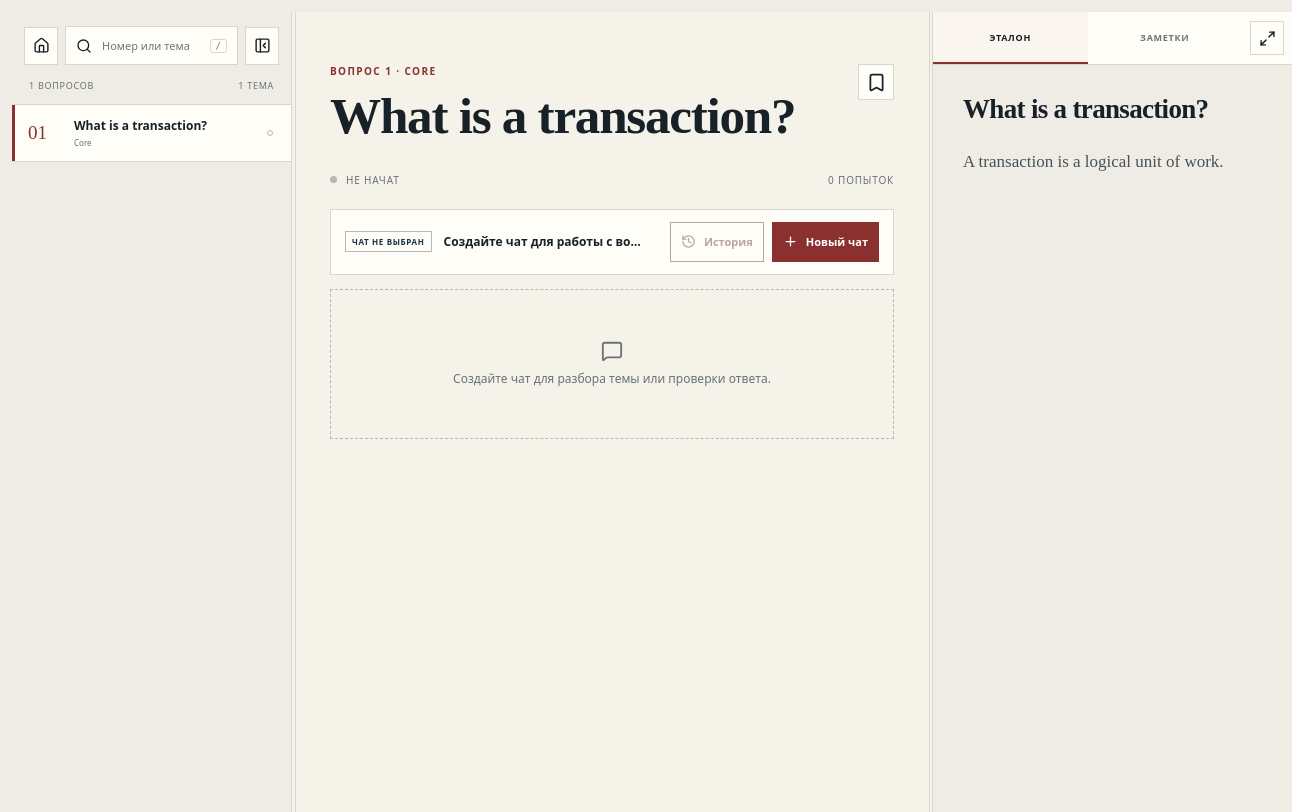
Scenario: Workspace › creates a tutor chat and quick prompts only fill the editor
Click the button "Новый чат": [825, 242] box top-left (772, 222), bottom-right (879, 262)
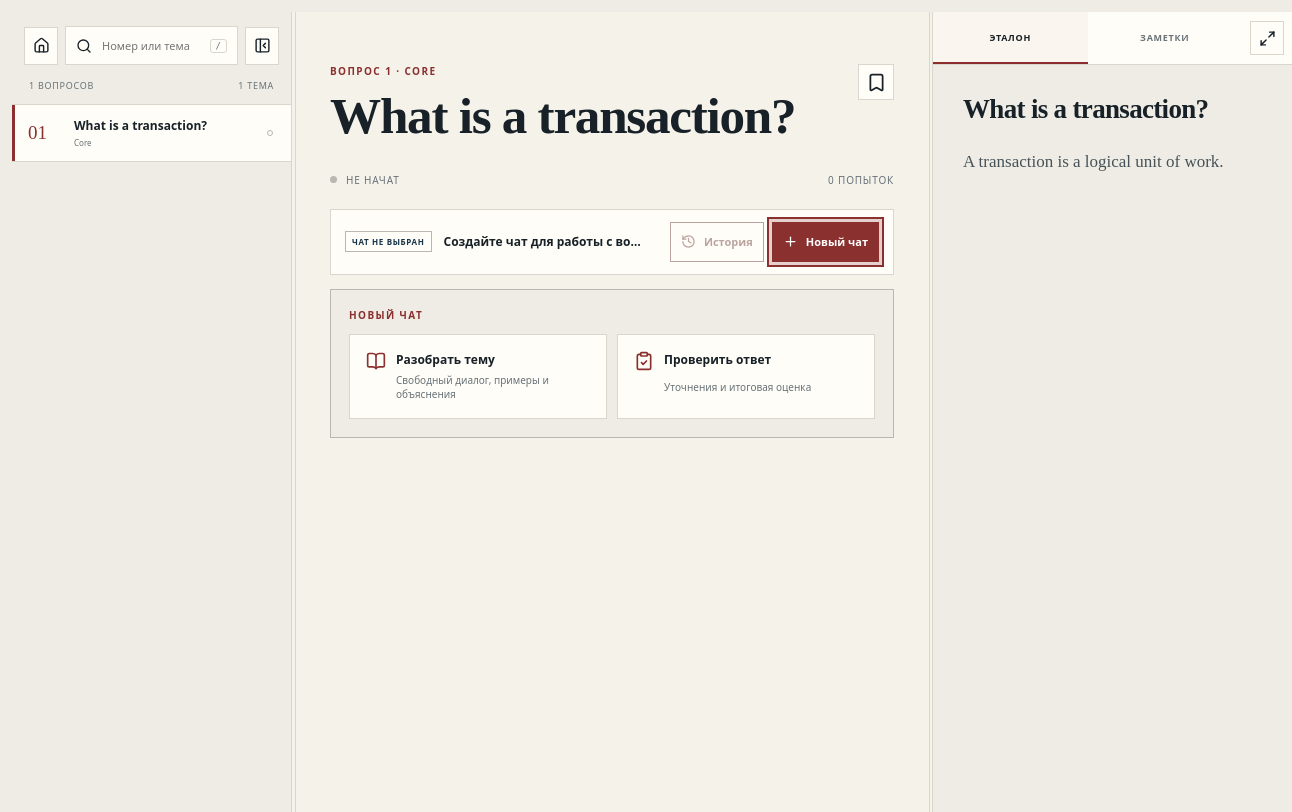
Click the button "Разобрать тему Свободный диалог, примеры и объяснения": [478, 376] box top-left (349, 334), bottom-right (607, 419)
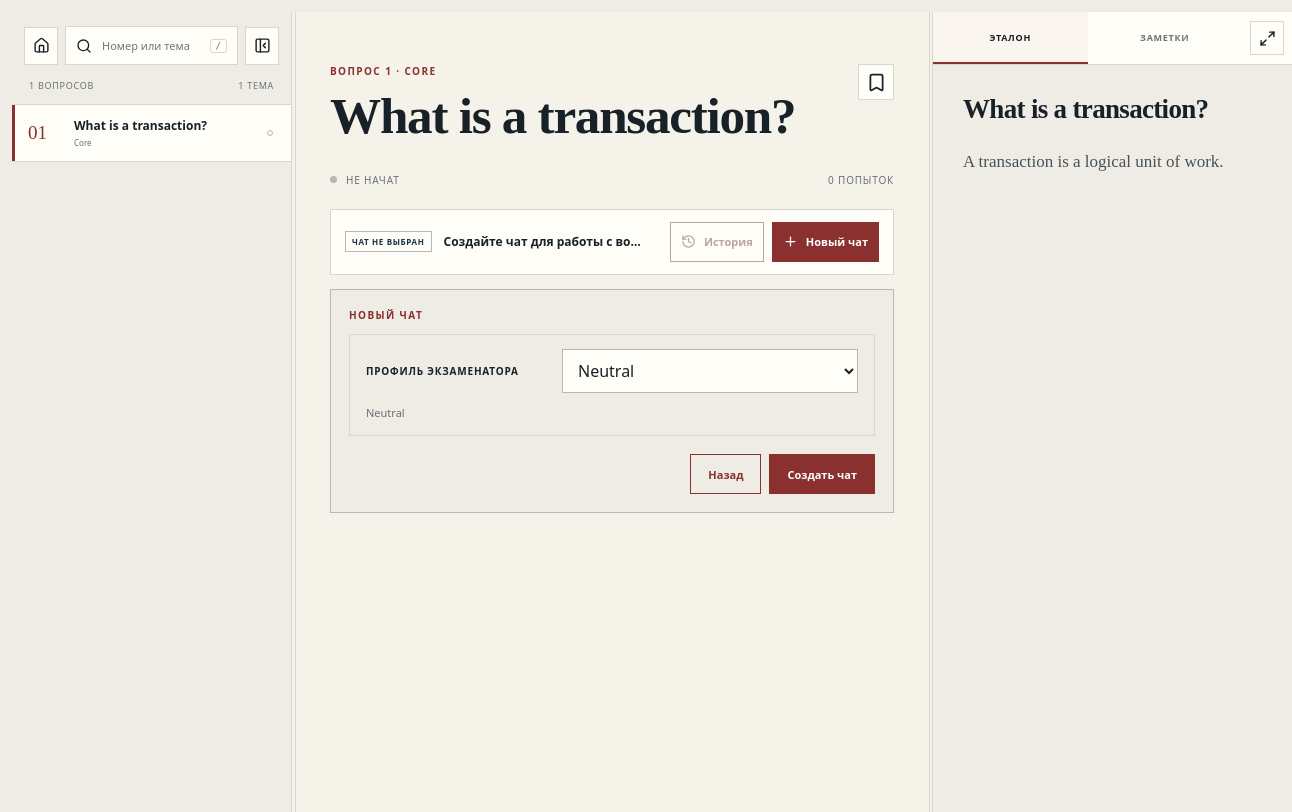
Click the button "Создать чат": [822, 474] box top-left (770, 454), bottom-right (875, 494)
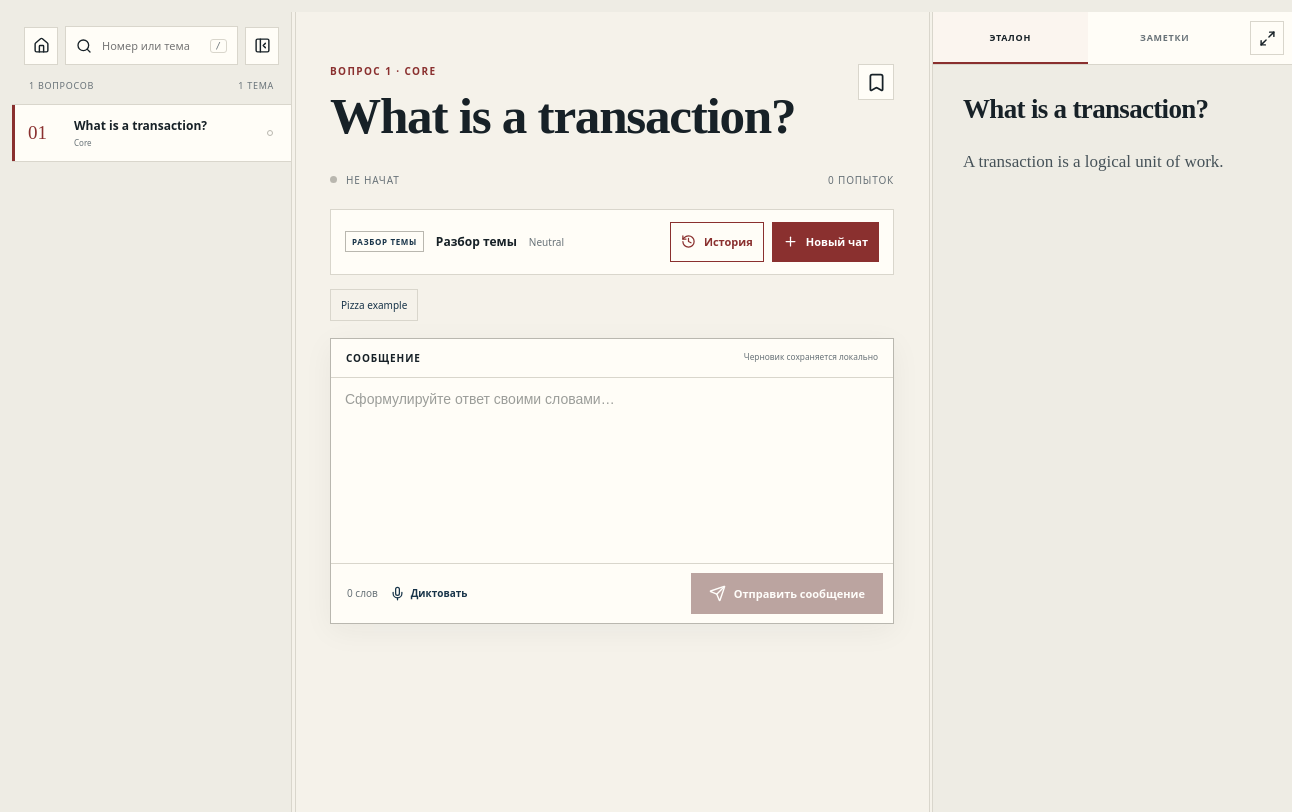
Click the button "Pizza example": [374, 305] box top-left (330, 289), bottom-right (418, 321)
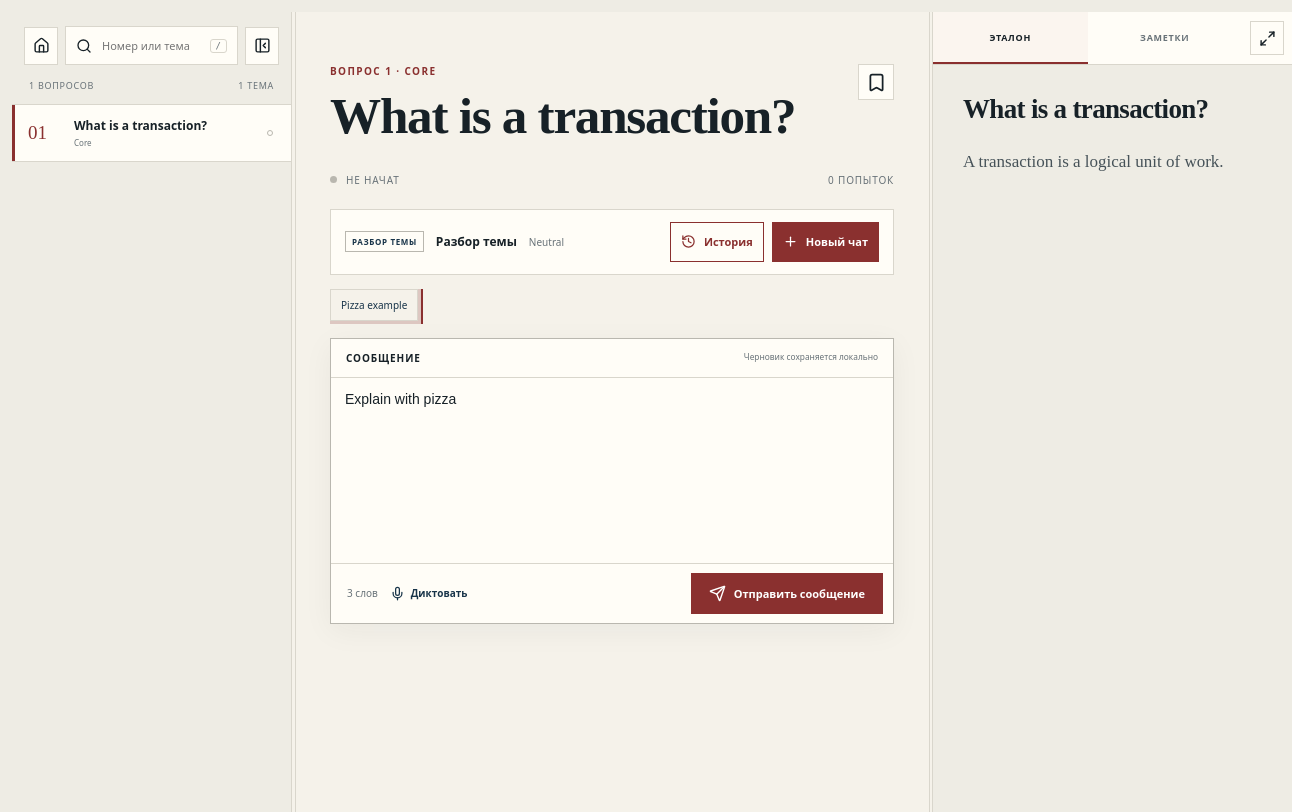
Check: the text box named "сообщение" holds "Explain with pizza", box top-left (331, 378), bottom-right (893, 558)
